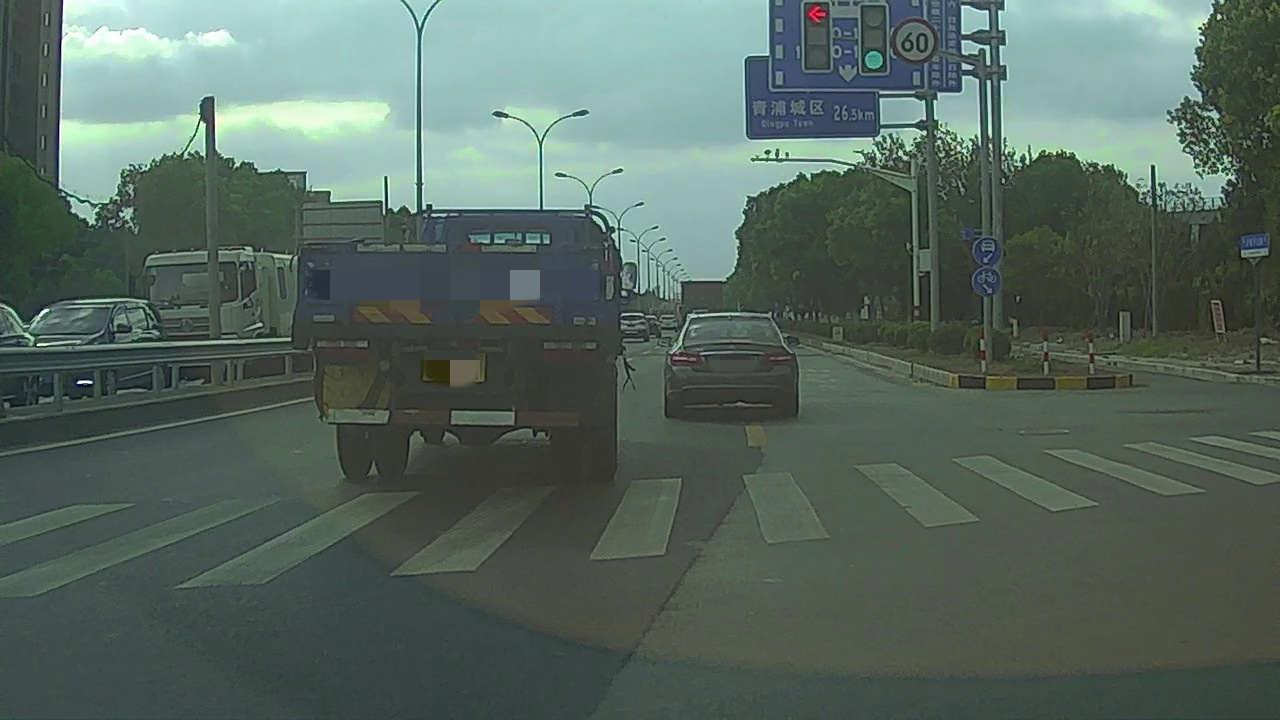traffic_light: (860, 2, 888, 73), (805, 5, 830, 70)
